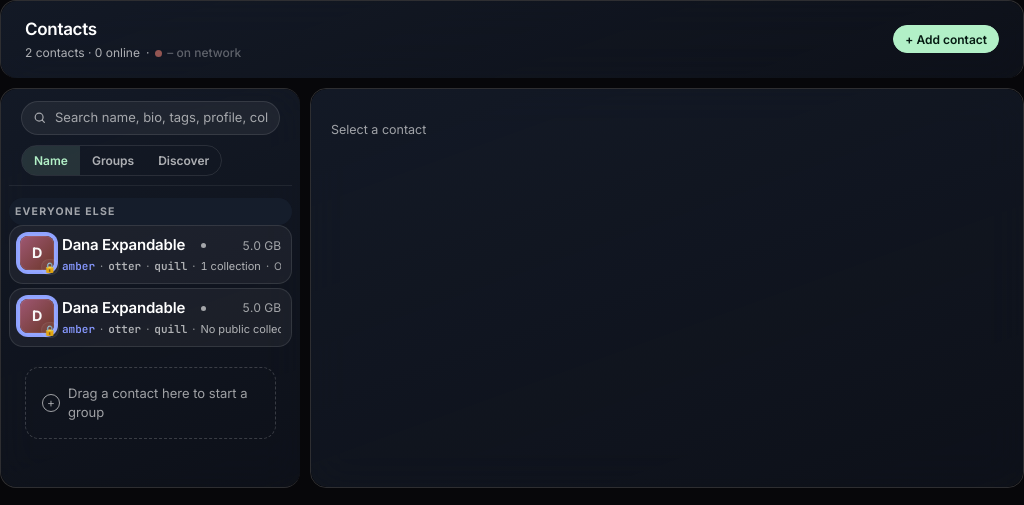
Test: QURATOR-368d — hover-to-expand column › prefers-reduced-motion settles immediately on expand
Hover over the option with class "contact-card" that starts with "Dana Expandable": (150, 255) [9,226,292,284]
Wait 120 ms
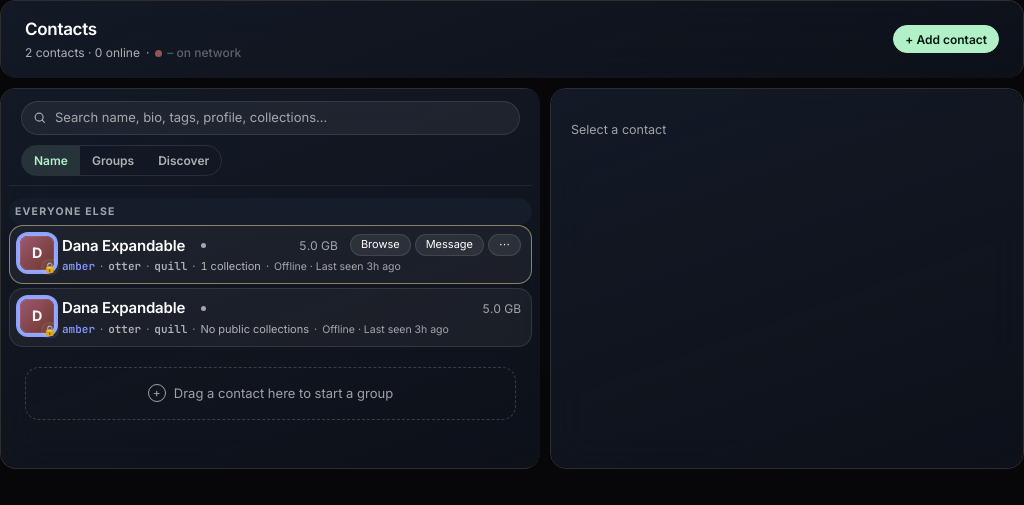
Expected: the element with class "row-acts" is shown, [350,234,521,256]
